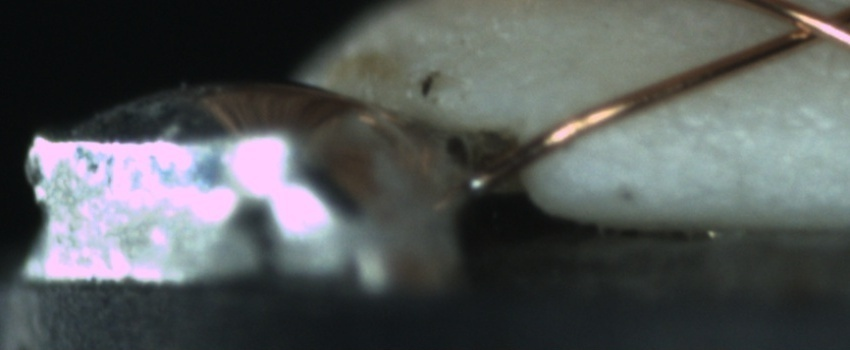CL: (767, 2, 849, 54)
